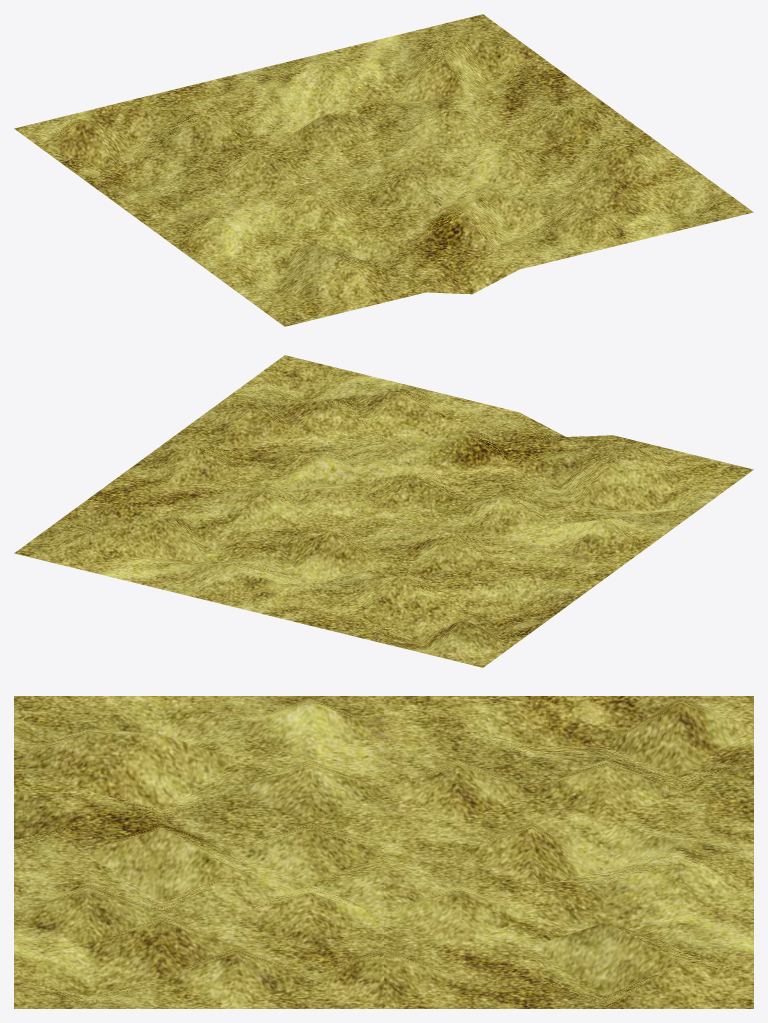
The model's file is Ground.fbx.
The picture shows the model from 3 angles, top to bottom: view 1: azimuth 30°, elevation 25°; view 2: azimuth 150°, elevation 25°; view 3: azimuth 270°, elevation 25°; orthographic projection. The views are drawn at different scales.
Visible parts, largest first — view 1: pPlane1; view 2: pPlane1; view 3: pPlane1.
Part boxes in pixels (<box>): pPlane1: <box>14,14,753,326</box>; pPlane1: <box>14,355,753,667</box>; pPlane1: <box>14,696,753,1008</box>.
Bounding box in the file's own units: 50 × 3.13 × 50.
